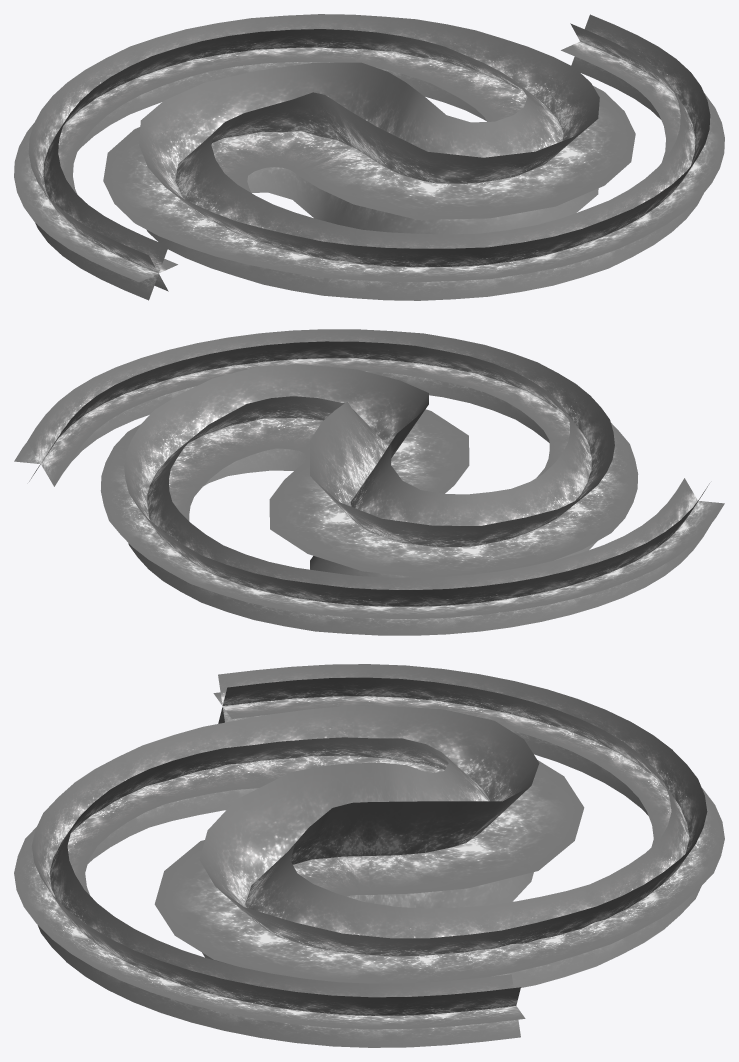
File: eff_Galaxy01.fbx
3 views of the same model, one above another, from view 1: azimuth 30°, elevation 25°; view 2: azimuth 150°, elevation 25°; view 3: azimuth 270°, elevation 25° (orthographic). The views are drawn at different scales.
Visible parts, largest first — view 1: eff_Galaxy01_msh; view 2: eff_Galaxy01_msh; view 3: eff_Galaxy01_msh.
Boxes of the visible parts, x1=… form: eff_Galaxy01_msh: x1=14, y1=14, x2=724, y2=300; eff_Galaxy01_msh: x1=14, y1=329, x2=724, y2=635; eff_Galaxy01_msh: x1=14, y1=664, x2=724, y2=1047.
Size of the model in its own units: 38.47 by 7.61 by 33.34.
